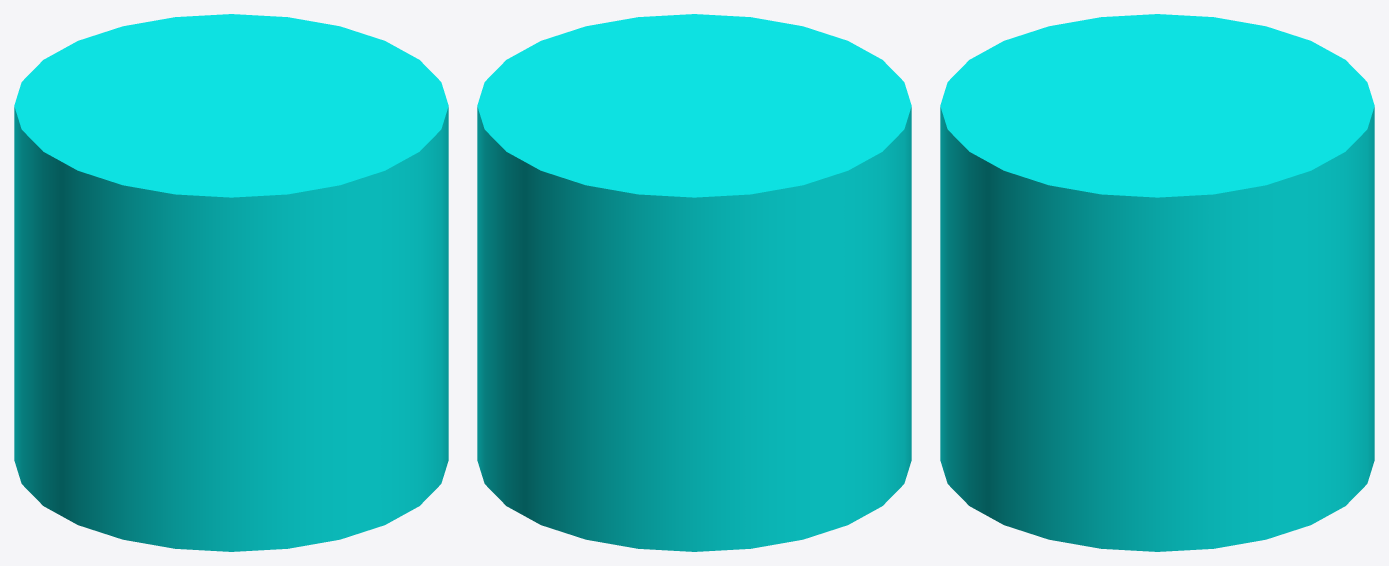
The model's file is original-4.obj.
3 renders of one model, left to right at view 1: azimuth 30°, elevation 25°; view 2: azimuth 150°, elevation 25°; view 3: azimuth 270°, elevation 25°, orthographic.
Parts seen in each view (by area): view 1: Group5/mesh8/mesh8-geometry#mesh8-geometry; view 2: Group5/mesh8/mesh8-geometry#mesh8-geometry; view 3: Group5/mesh8/mesh8-geometry#mesh8-geometry.
Boxes of the visible parts, x1,y1,x2,y2 form: Group5/mesh8/mesh8-geometry#mesh8-geometry: (14, 14, 448, 551); Group5/mesh8/mesh8-geometry#mesh8-geometry: (477, 14, 911, 551); Group5/mesh8/mesh8-geometry#mesh8-geometry: (940, 14, 1374, 551).
Bounding box in the file's own units: 0.0855 × 0.0769 × 0.0855.
